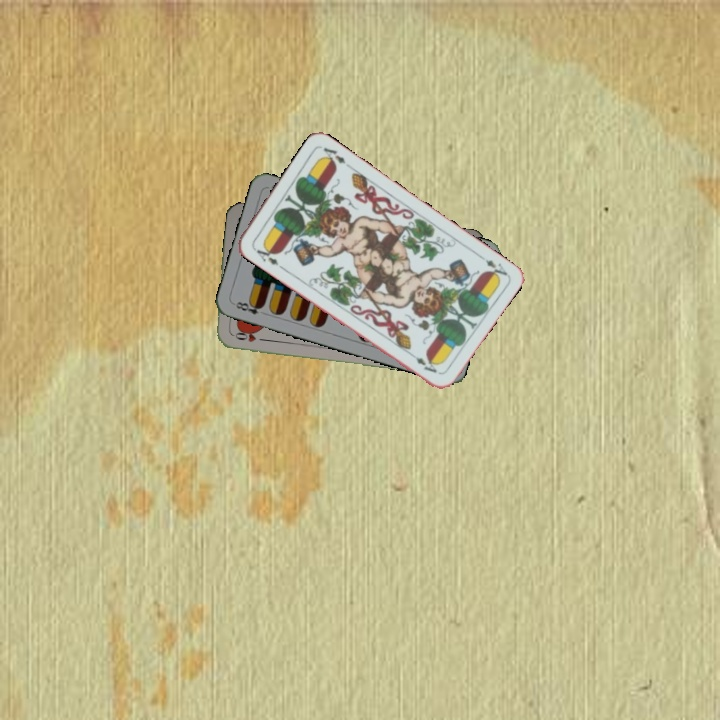E8: (230, 297, 266, 317)
EA: (474, 250, 510, 281), (249, 241, 281, 268)
HO: (227, 327, 268, 345)
